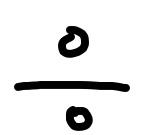div: (9, 26, 130, 130)
